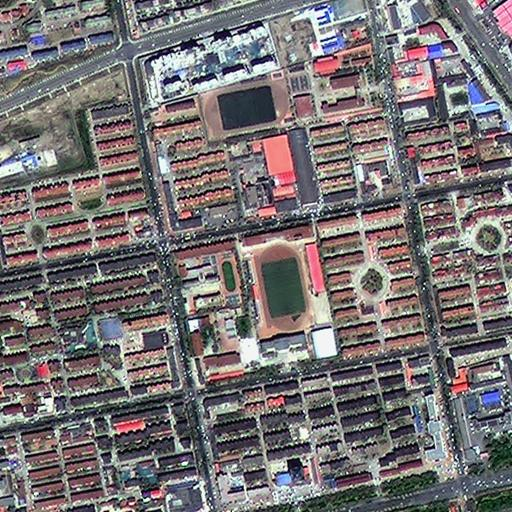school: (195, 40, 389, 143), (172, 246, 250, 319)
